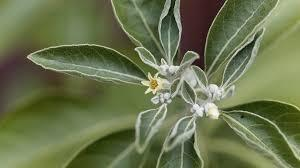healthy_leaf: (52, 7, 300, 168)
